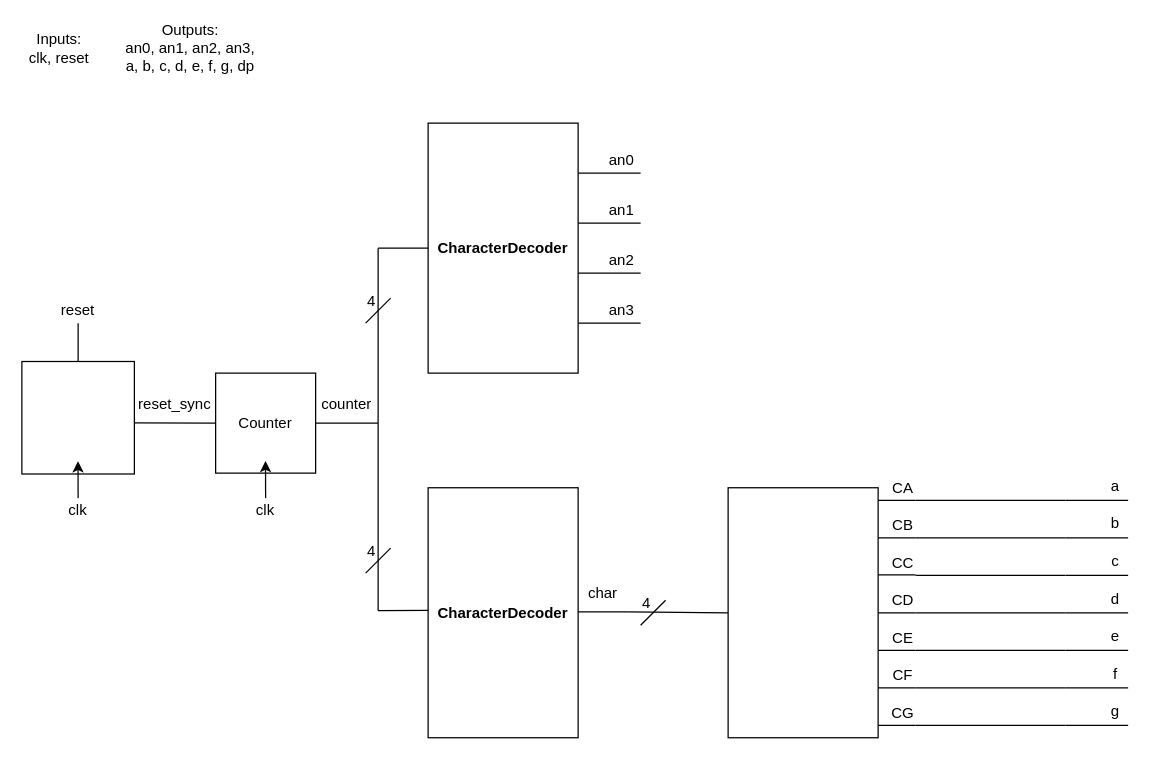
Some shapes in this 1151 by 760 pixel diagram are drawn without their labels. The centre of each missing label's shape, as x and y in pixels:
"InputDebouncer" goes at (x=77, y=417).
"LEDdecoder" goes at (x=802, y=612).
